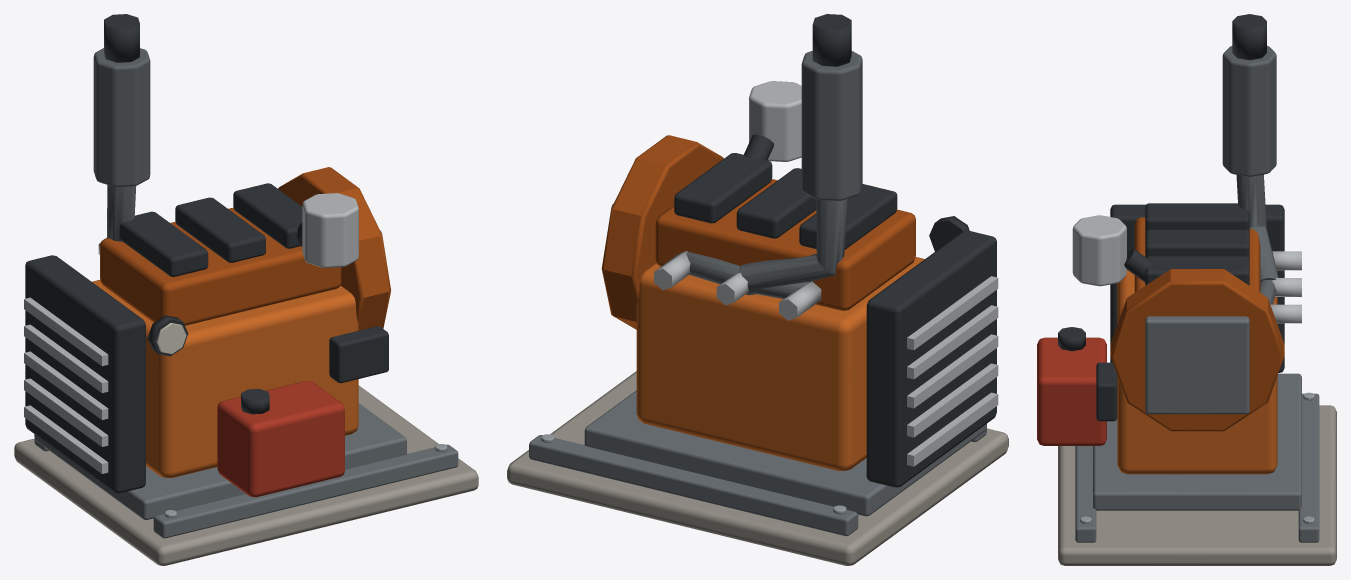
The model's file is pp_engine.glb.
The picture shows the model from 3 angles, left to right: view 1: azimuth 30°, elevation 25°; view 2: azimuth 150°, elevation 25°; view 3: azimuth 270°, elevation 25°; orthographic projection. The views are drawn at different scales.
Parts seen in each view (by area): view 1: block.005, block.010, block.001, block.006, block.016, cyl.004, block.002, block.004, cyl.008, cyl.007, block.008, block.007 (+12 smaller); view 2: block.005, block.010, block.001, block.004, block.006, cyl.008, block.003, cyl.004, pipe.001, block.009, cyl.007, block.008 (+12 smaller); view 3: block.001, cyl.008, block.004, block.017, block.005, block.016, cyl.004, cyl.007, block.008, block.007, block.003, block.010 (+11 smaller).
Part boxes in pixels (box(x1,y1,x2,y2)): block.005: box(92, 279, 358, 478); block.010: box(25, 255, 145, 493); block.001: box(14, 385, 478, 565); block.006: box(100, 207, 341, 325); block.016: box(217, 381, 344, 497); cyl.004: box(93, 48, 150, 186); block.002: box(153, 444, 458, 538); block.004: box(34, 403, 406, 519); cyl.008: box(278, 167, 391, 330); cyl.007: box(302, 193, 358, 267); block.008: box(175, 197, 265, 262); block.007: box(119, 211, 208, 276); block.005: box(636, 257, 924, 470); block.010: box(866, 230, 996, 487); block.001: box(507, 371, 1008, 565); block.004: box(584, 390, 986, 516); block.006: box(655, 179, 915, 310); cyl.008: box(601, 135, 723, 329); block.003: box(529, 435, 858, 536); cyl.004: box(801, 51, 862, 200); pipe.001: box(738, 198, 847, 295); block.009: box(674, 153, 772, 223); cyl.007: box(749, 81, 801, 161); block.008: box(736, 168, 816, 238); block.001: box(1058, 405, 1336, 565); cyl.008: box(1110, 269, 1284, 431); block.004: box(1093, 373, 1301, 510); block.017: box(1145, 316, 1249, 414); block.005: box(1117, 270, 1277, 474); block.016: box(1037, 337, 1106, 445); cyl.004: box(1222, 46, 1276, 176); cyl.007: box(1072, 215, 1126, 286); block.008: box(1145, 229, 1249, 259); block.007: box(1145, 203, 1249, 232); block.003: box(1298, 393, 1319, 542); block.010: box(1110, 204, 1284, 372).
Bounding box in the file's own units: 1.07 × 1.36 × 0.86.
